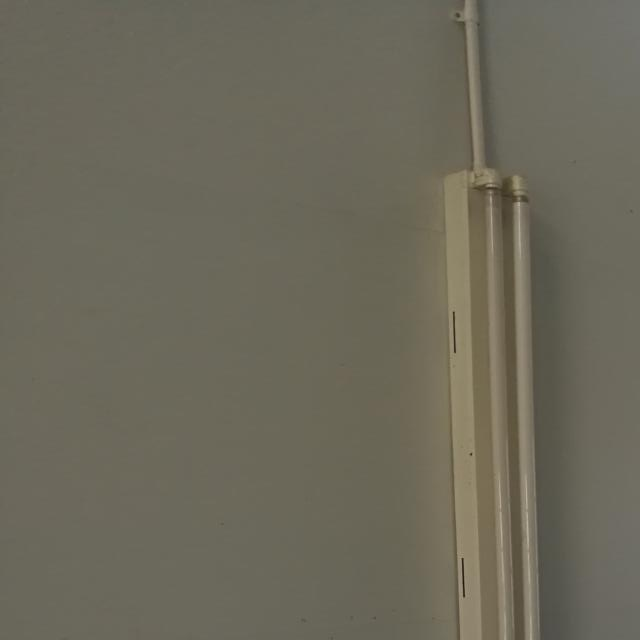fluorescent tube: (428, 161, 585, 640)
